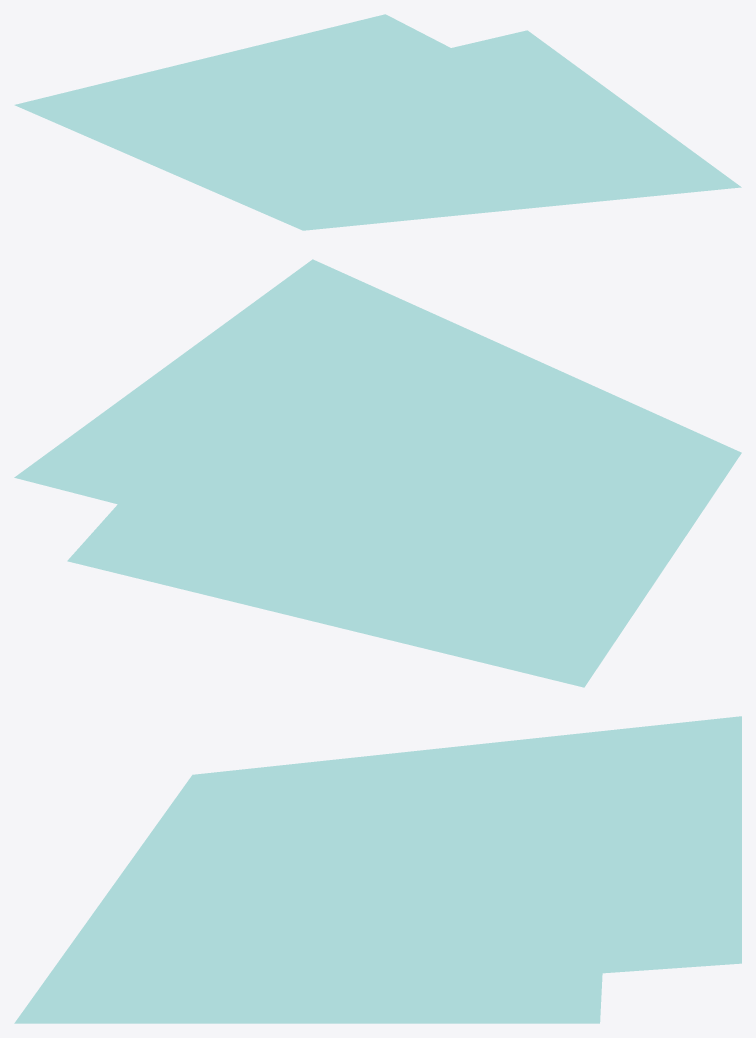
Rendered from wavewallconvex.fbx.
3 views of the same model, one above another, from view 1: azimuth 30°, elevation 25°; view 2: azimuth 150°, elevation 25°; view 3: azimuth 270°, elevation 25° (orthographic). The views are drawn at different scales.
Visible parts, largest first — view 1: obj0.172; view 2: obj0.172; view 3: obj0.172.
Part boxes in pixels (x1=…): obj0.172: x1=14, y1=14, x2=741, y2=230; obj0.172: x1=14, y1=259, x2=741, y2=687; obj0.172: x1=14, y1=716, x2=741, y2=1023.
Bounding box in the file's own units: 1.59 × 0.000526 × 1.59.
